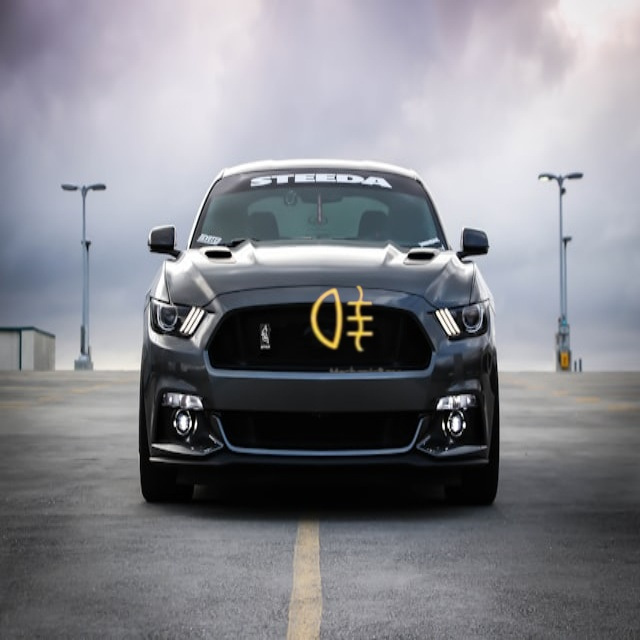symbol: (279, 255, 407, 383)
